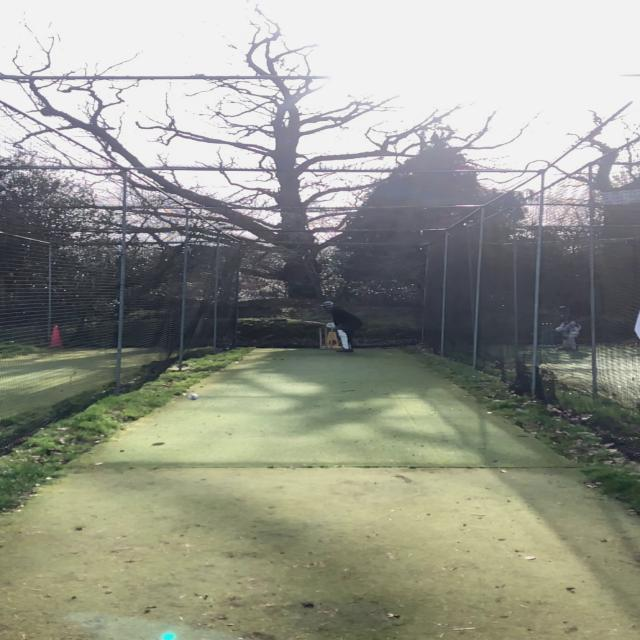ball: (187, 392, 200, 401)
